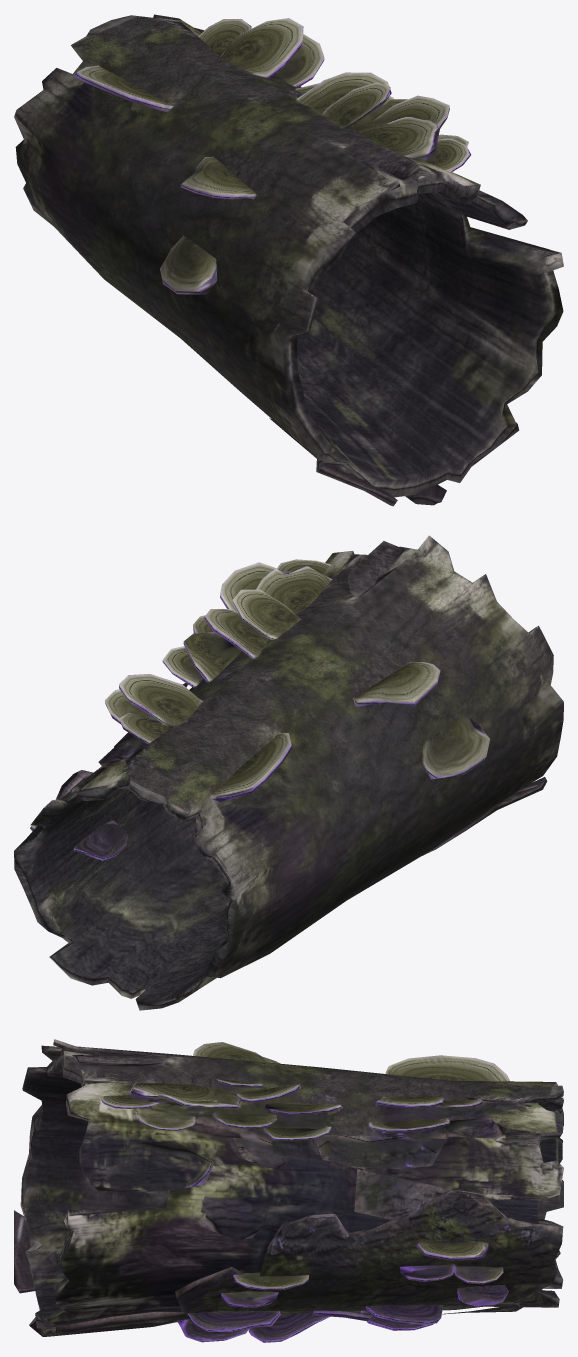
The model's file is nature-black-bracket-log.glb.
The picture shows the model from 3 angles, top to bottom: view 1: azimuth 30°, elevation 25°; view 2: azimuth 150°, elevation 25°; view 3: azimuth 270°, elevation 25°; orthographic projection. The views are drawn at different scales.
Bounding box in the file's own units: 0.5931 × 0.5682 × 1.
1 material, 1 textured.
